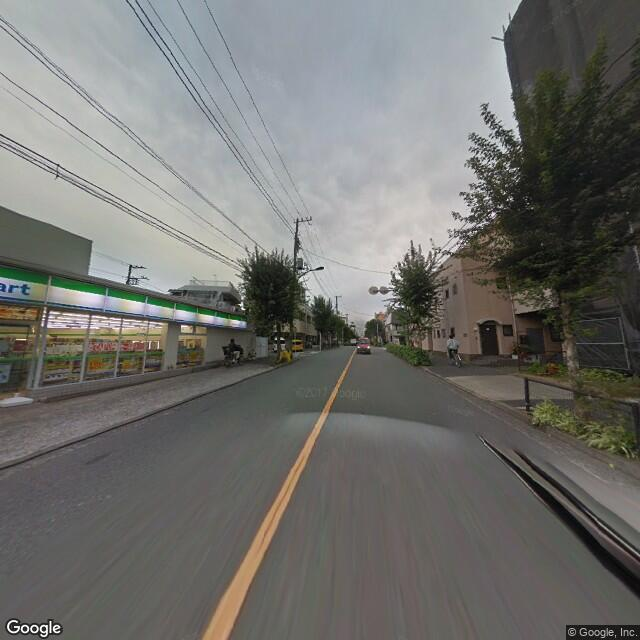family_mart: (1, 262, 247, 331)
